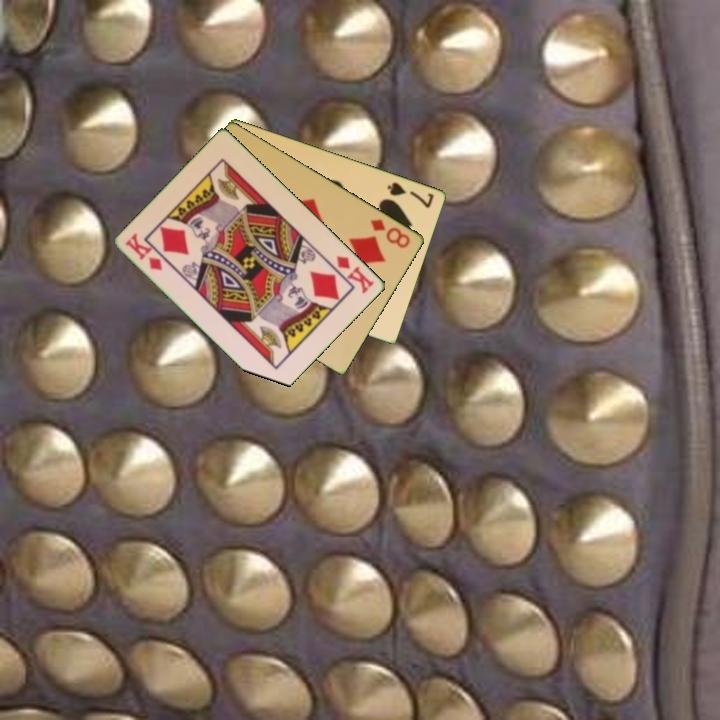7s: (384, 178, 437, 211)
8d: (367, 215, 414, 251)
Kd: (333, 252, 378, 297), (122, 230, 166, 274)
